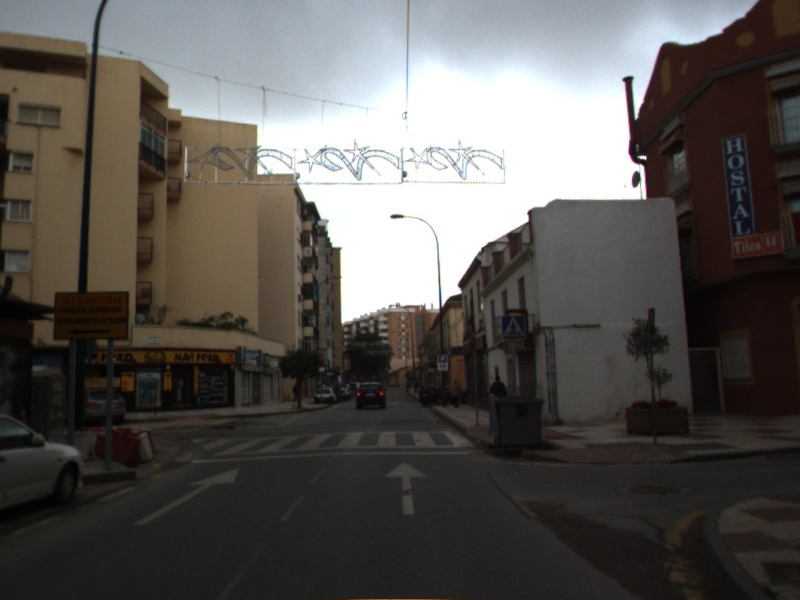STRAIGHT: (131, 465, 242, 528), (382, 460, 430, 517)
